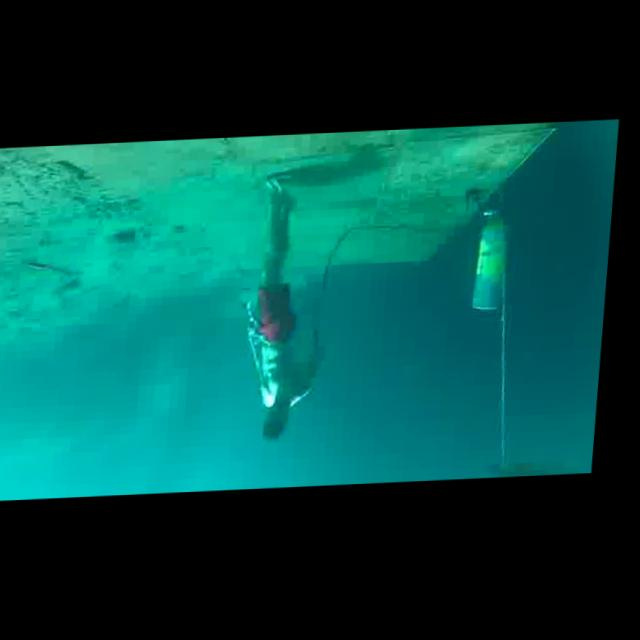human: (236, 165, 353, 451)
